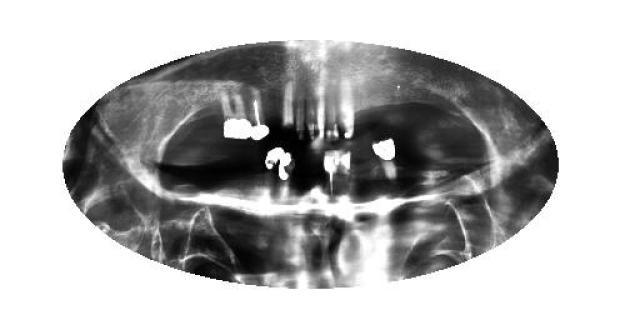Cavity: (282, 80, 294, 138)
Fillings: (220, 86, 252, 142), (370, 138, 398, 192), (276, 152, 296, 198), (265, 148, 284, 188)
Implant: (250, 89, 271, 141), (322, 149, 340, 200)
